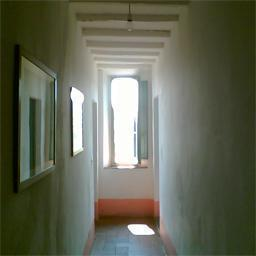Ventana: (109, 79, 147, 168)
